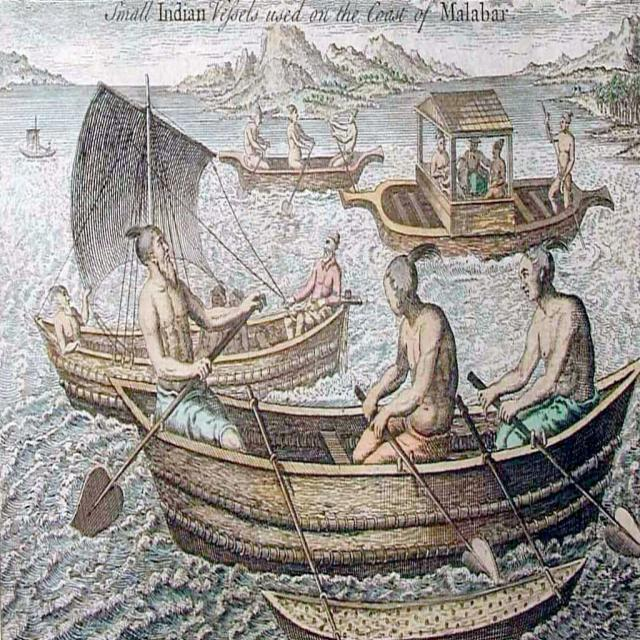Boat: (107, 293, 639, 581), (36, 75, 362, 432), (244, 381, 588, 639), (370, 93, 640, 257), (216, 147, 380, 192), (18, 125, 53, 167)
